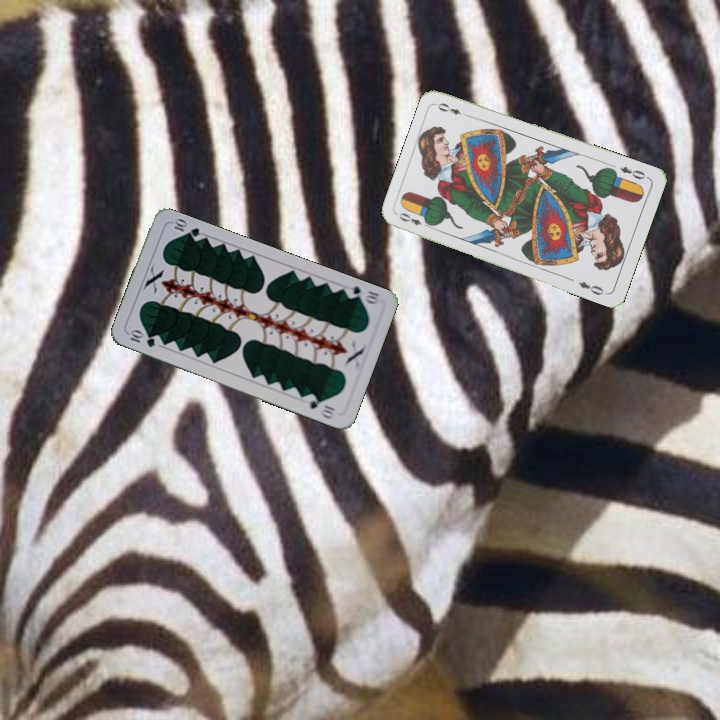EO: (395, 209, 434, 231), (616, 162, 651, 182)
G10: (341, 282, 383, 307), (125, 327, 158, 350)
